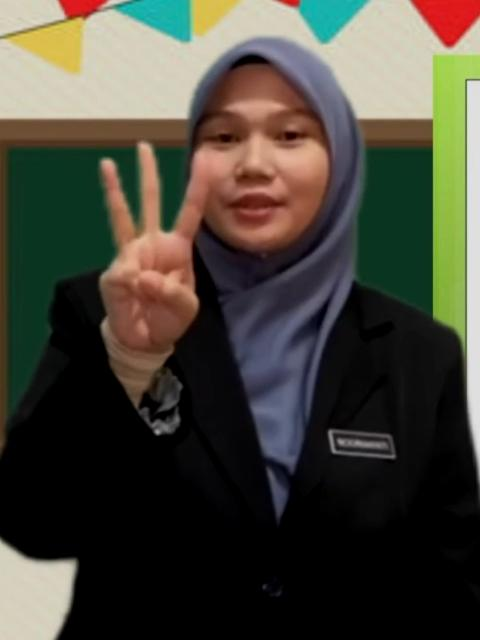W: (96, 142, 216, 360)
